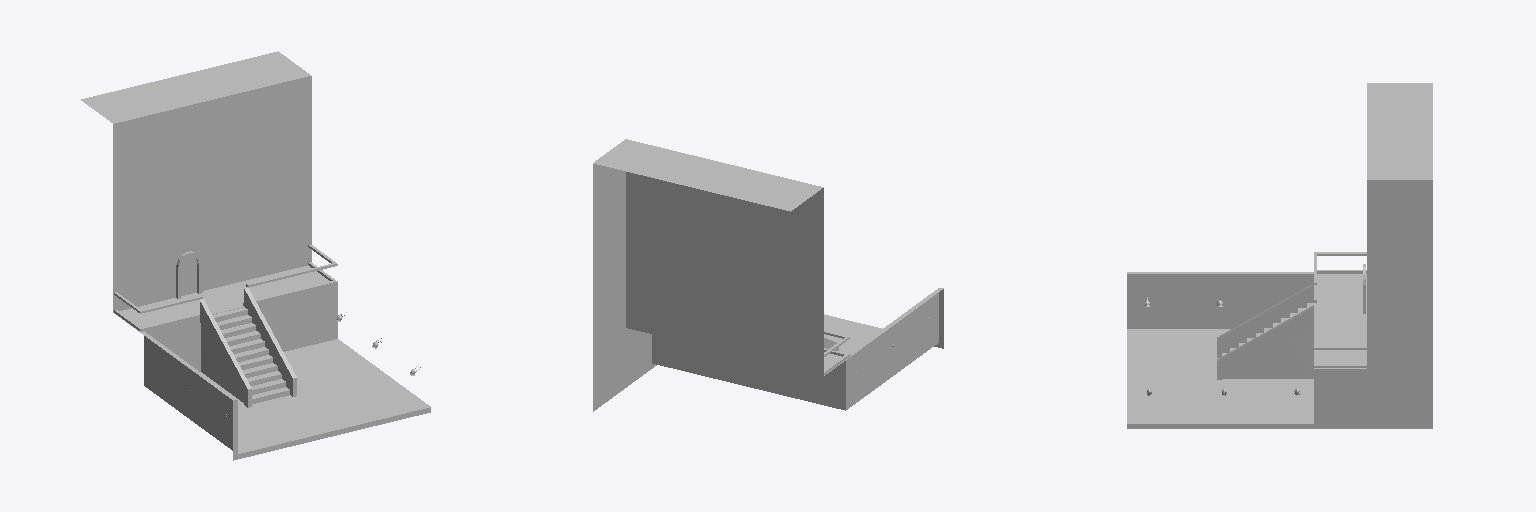
The model's file is hall.obj.
3 views of the same model, side by side, from view 1: azimuth 30°, elevation 25°; view 2: azimuth 150°, elevation 25°; view 3: azimuth 270°, elevation 25° (orthographic).
Visible parts, largest first — view 1: Plane.010; view 2: Plane.010; view 3: Plane.010.
Boxes of the visible parts, <box> form: Plane.010: <box>81,51,430,460</box>; Plane.010: <box>593,139,943,411</box>; Plane.010: <box>1127,83,1432,428</box>.
Size of the model in its own units: 4.07 by 4.87 by 5.43.